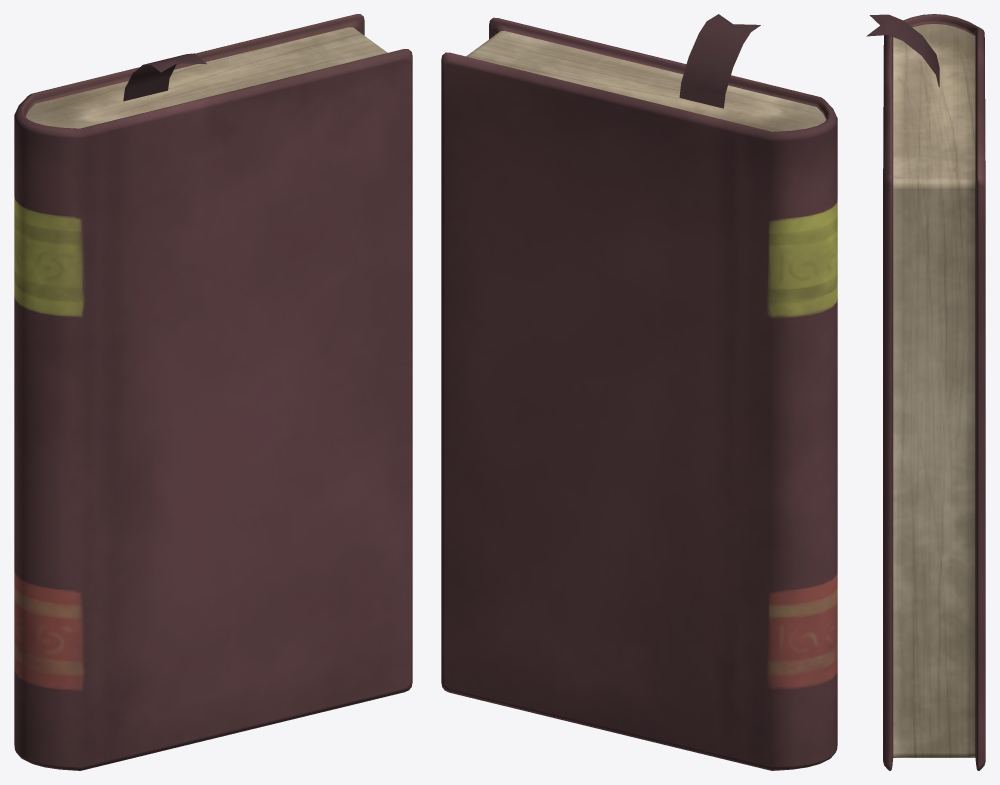
File: Libro 1 Fin.FBX
3 renders of one model, left to right at view 1: azimuth 30°, elevation 25°; view 2: azimuth 150°, elevation 25°; view 3: azimuth 270°, elevation 25°, orthographic. The views are drawn at different scales.
Parts seen in each view (by area): view 1: Libro 1; view 2: Libro 1; view 3: Libro 1.
Part boxes in pixels (bbox=[...]): Libro 1: bbox=[14, 14, 412, 770]; Libro 1: bbox=[441, 14, 837, 770]; Libro 1: bbox=[866, 14, 985, 770].
Size of the model in its own units: 17.93 by 32.09 by 5.42.
Materials: 1 (1 with a texture image).
